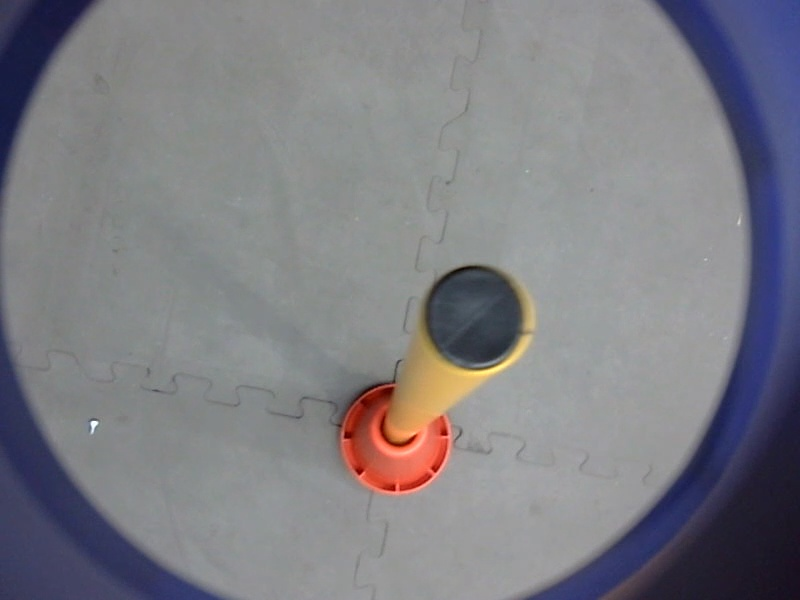tip: (419, 258, 543, 382)
